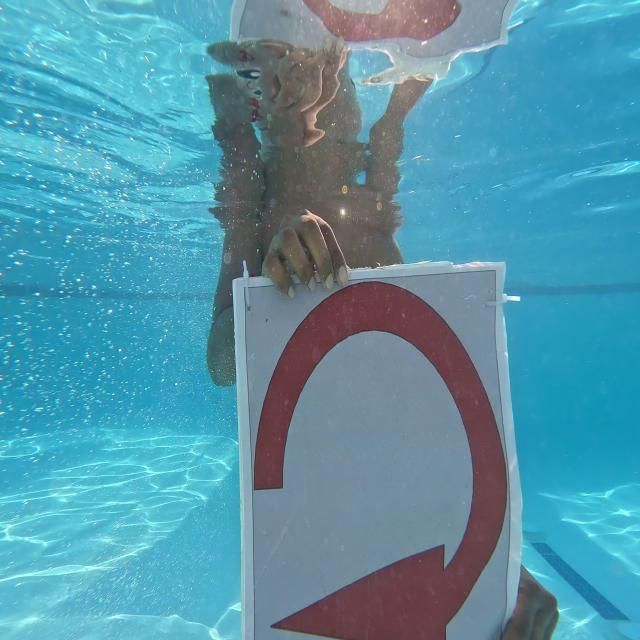red_side: (231, 269, 521, 640)
